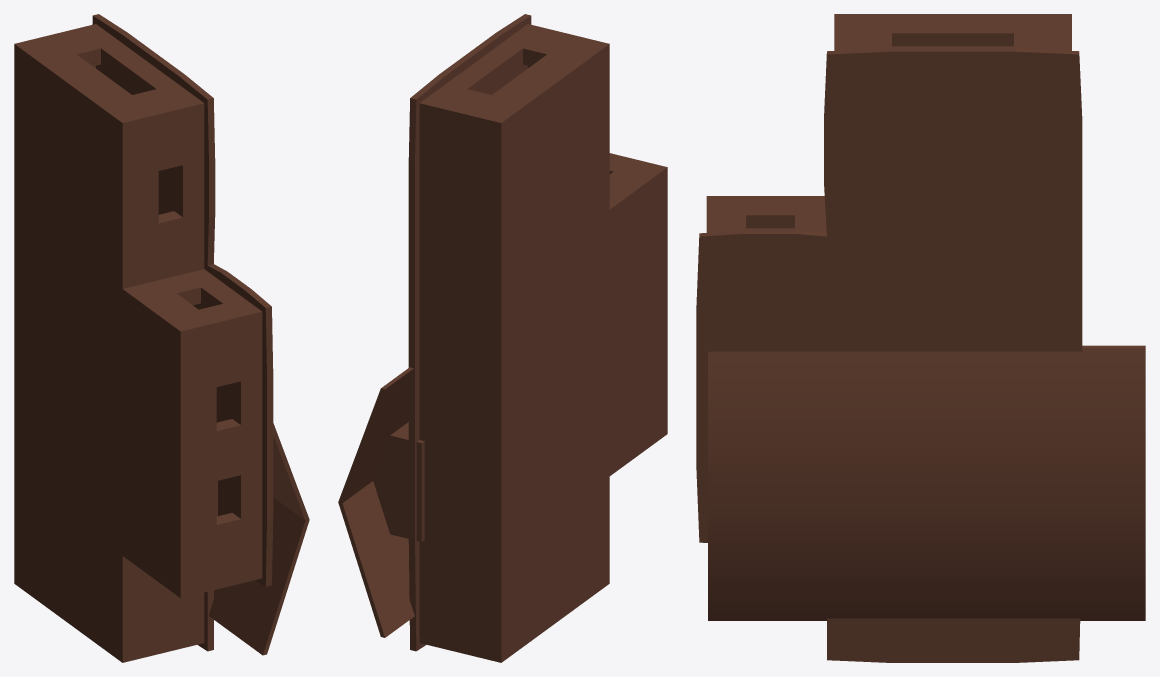
File: House01.FBX
3 views of the same model, side by side, from view 1: azimuth 30°, elevation 25°; view 2: azimuth 150°, elevation 25°; view 3: azimuth 270°, elevation 25° (orthographic). The views are drawn at different scales.
Parts seen in each view (by area): view 1: Box183; view 2: Box183; view 3: Box183.
Part boxes in pixels (x1,y1,x2,y2): Box183: [14, 14, 309, 662]; Box183: [338, 14, 667, 662]; Box183: [696, 14, 1145, 662].
Bounding box in the file's own units: 32.31 × 133 × 88.35.
